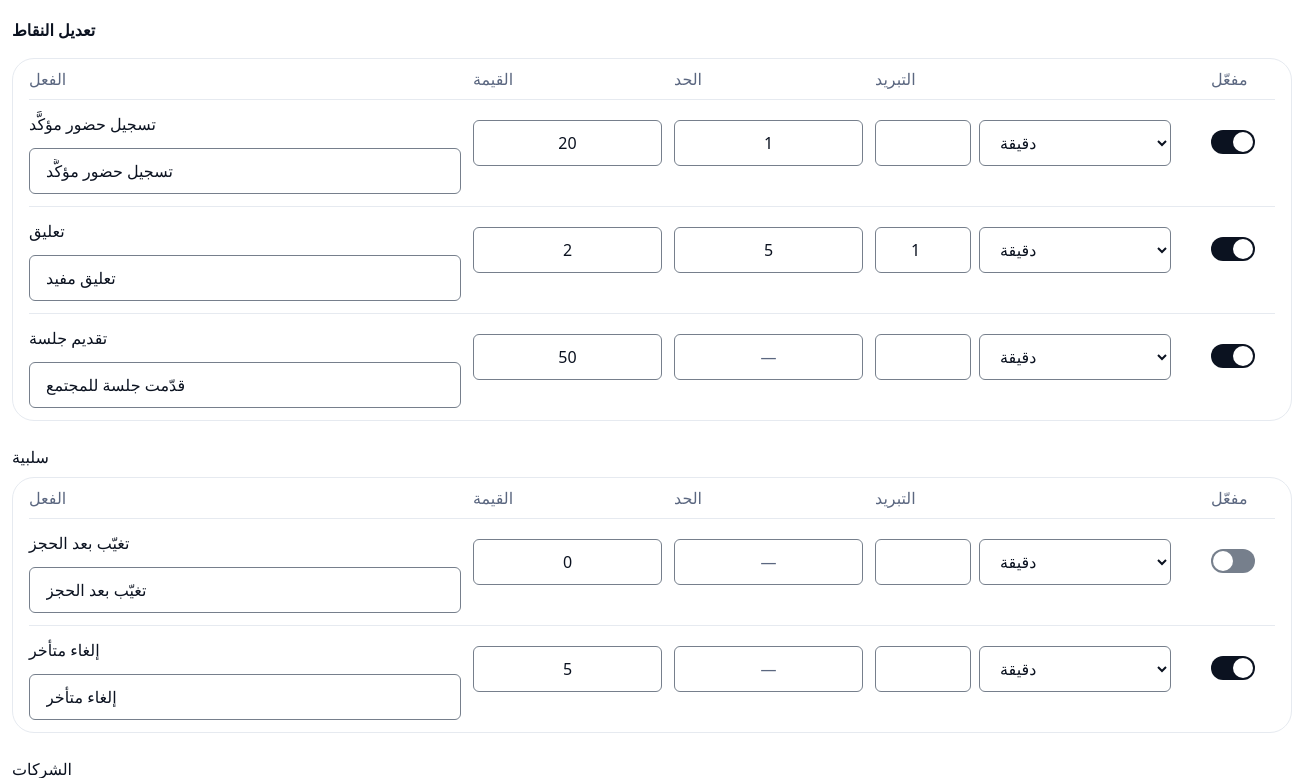
Test case: ScoringAdminPage — edit mode › a switch STAGES its change — nothing is written — and edit mode counts it and names it «(معدّل)»
Check: the heading "تعديل النقاط" is shown, box [12,18,95,42]
Click the switch named "مفعّل — تعليق" at {"x": 1233, "y": 249}, box [1211,227,1255,271]
(page scrolled)
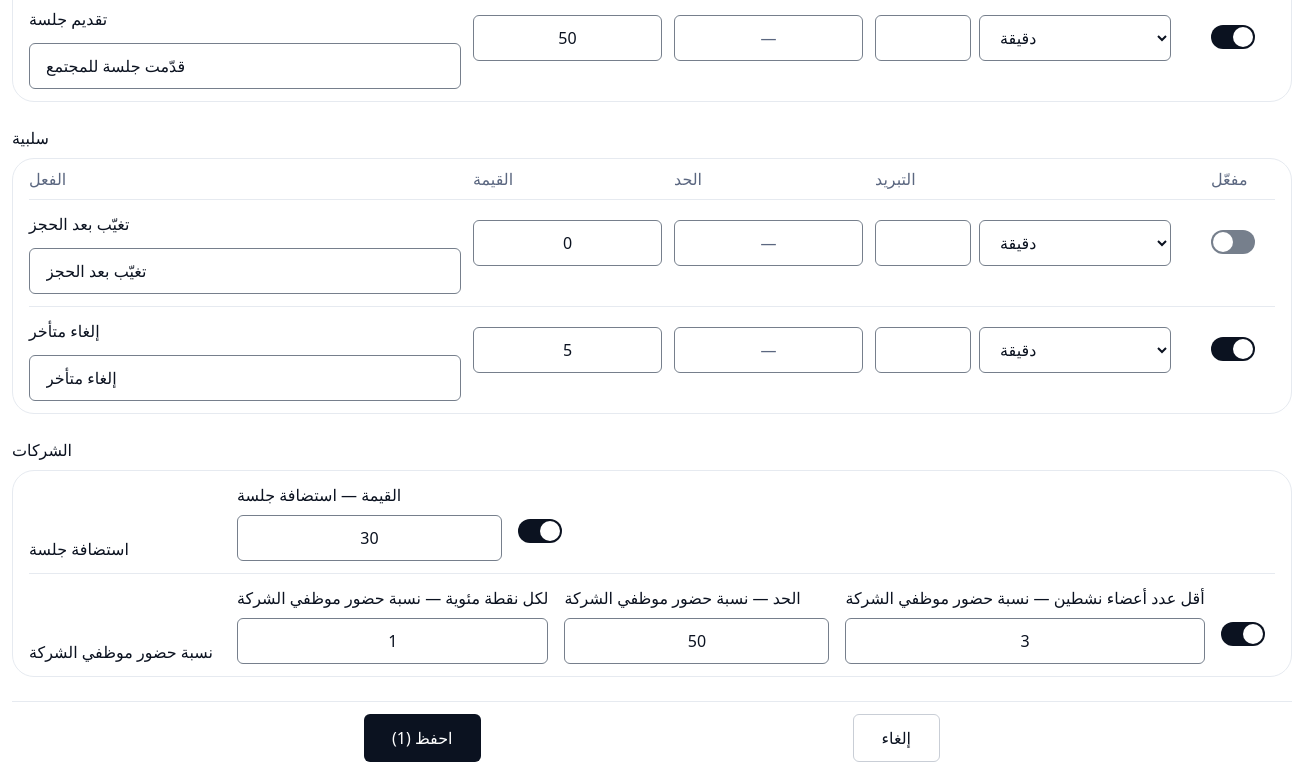
Check: the button "احفظ (1)" is enabled, box [364,714,480,762]
